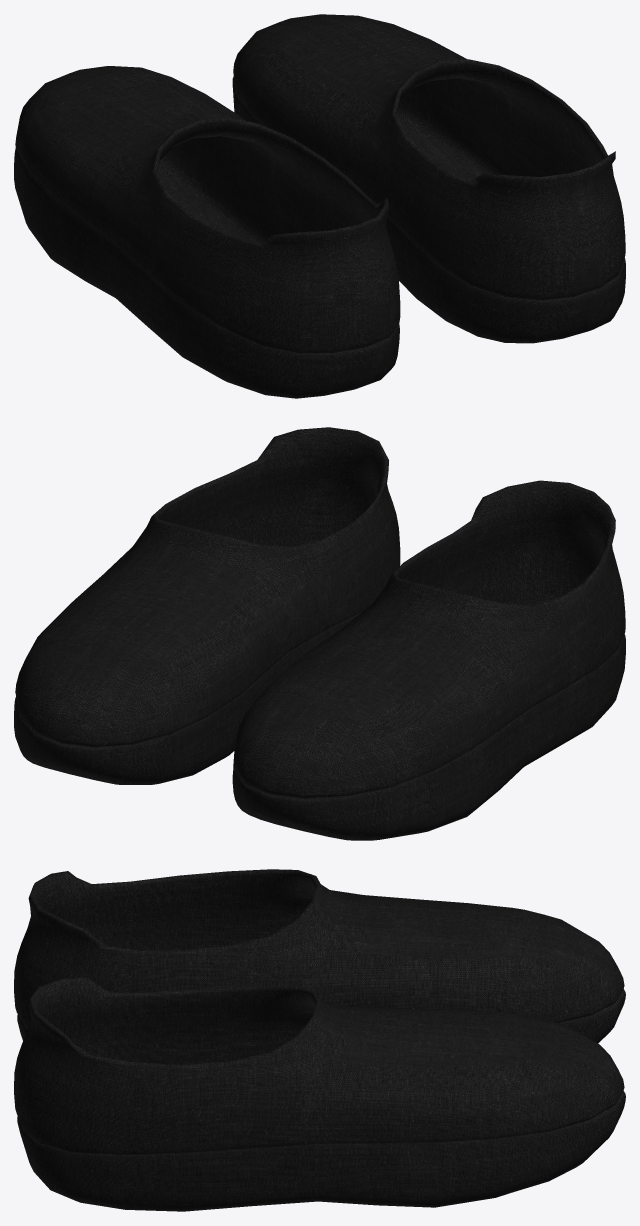
Rendered from Eden_shoes.fbx.
The picture shows the model from 3 angles, top to bottom: view 1: azimuth 30°, elevation 25°; view 2: azimuth 150°, elevation 25°; view 3: azimuth 270°, elevation 25°; orthographic projection.
Visible parts, largest first — view 1: pCube22; view 2: pCube22; view 3: pCube22.
Part boxes in pixels (left/top/right/bottom): pCube22: left=14, top=14, right=625, bottom=398; pCube22: left=14, top=427, right=625, bottom=840; pCube22: left=14, top=869, right=625, bottom=1211.
Size of the model in its own units: 0.00641 by 0.00254 by 0.00795.
Materials: 1 (1 with a texture image).
